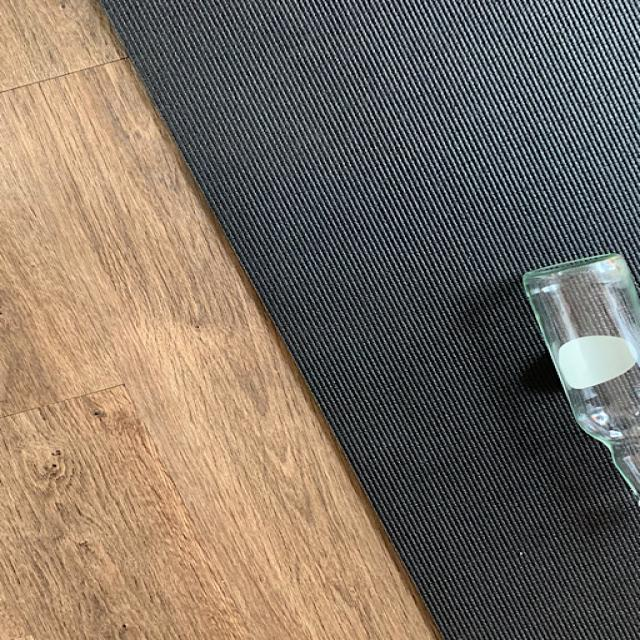litter: (520, 247, 638, 509)
